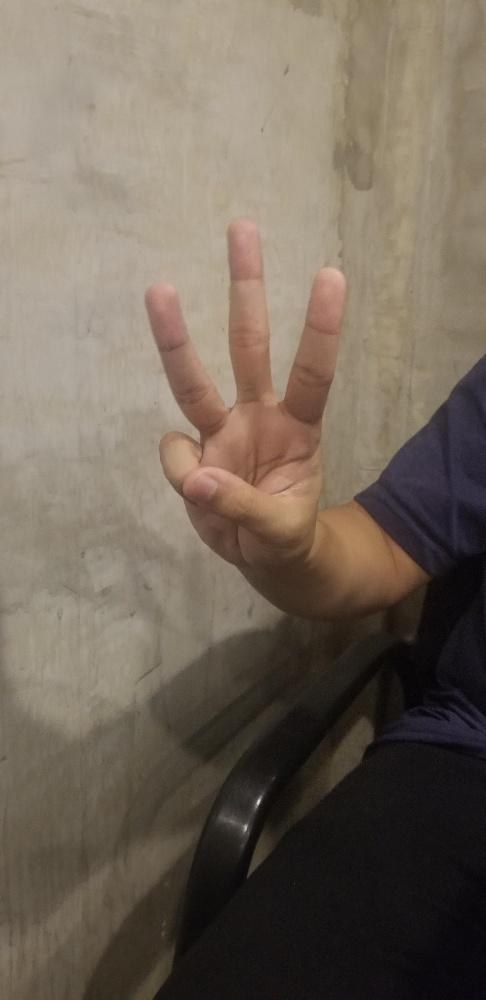w: (139, 212, 345, 572)
